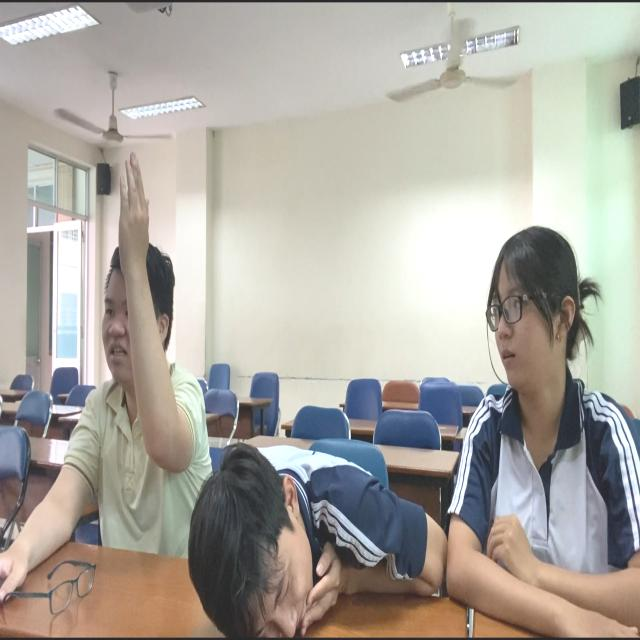raise_hand: (69, 143, 211, 522)
sleep: (168, 417, 446, 640)
